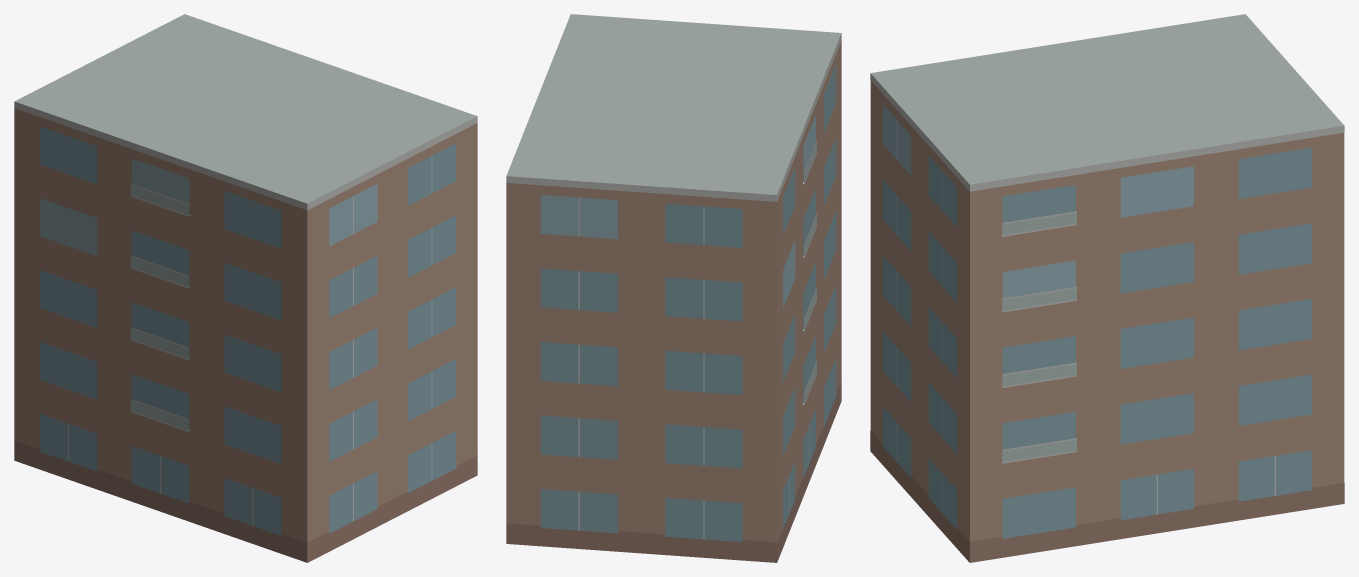
File: survey-upis-32903504.glb
The picture shows the model from 3 angles, left to right: view 1: azimuth 30°, elevation 25°; view 2: azimuth 150°, elevation 25°; view 3: azimuth 270°, elevation 25°; orthographic projection. The views are drawn at different scales.
Visible parts, largest first — view 1: survey-upis-32903504.tmp; view 2: survey-upis-32903504.tmp; view 3: survey-upis-32903504.tmp.
Part boxes in pixels (x1,y1,x2,y2): survey-upis-32903504.tmp: [14, 14, 477, 562]; survey-upis-32903504.tmp: [506, 14, 841, 562]; survey-upis-32903504.tmp: [870, 14, 1344, 562].
Size of the model in its own units: 12.84 by 13.25 by 15.07.
